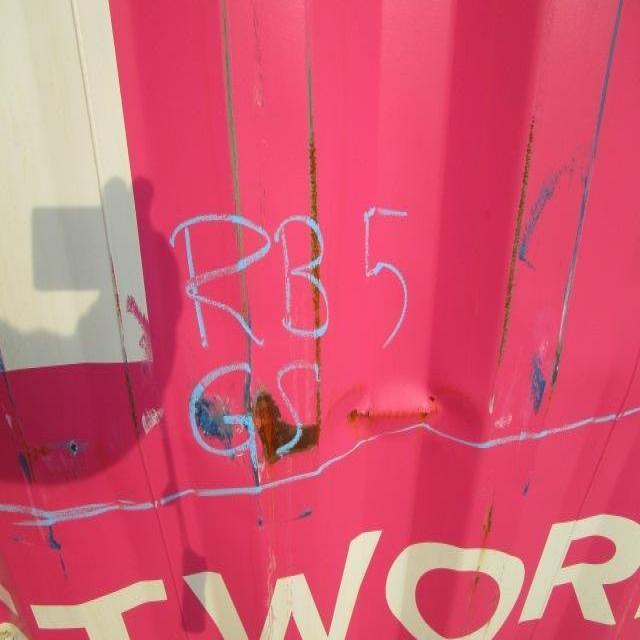Dent: (14, 232, 529, 593)
